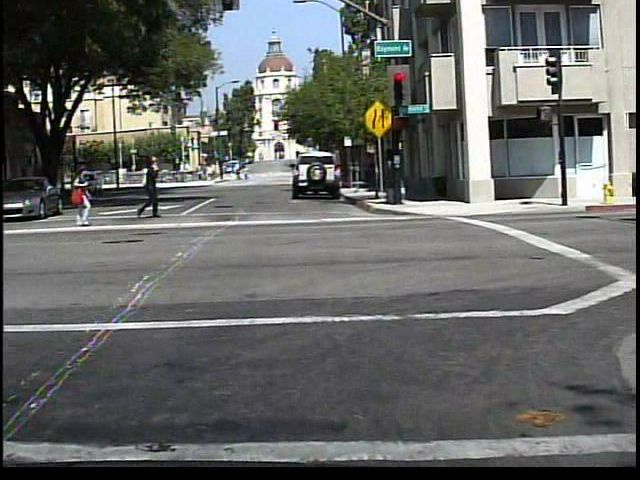person: (129, 157, 166, 222), (61, 162, 95, 229), (240, 166, 251, 186), (231, 166, 241, 185)
